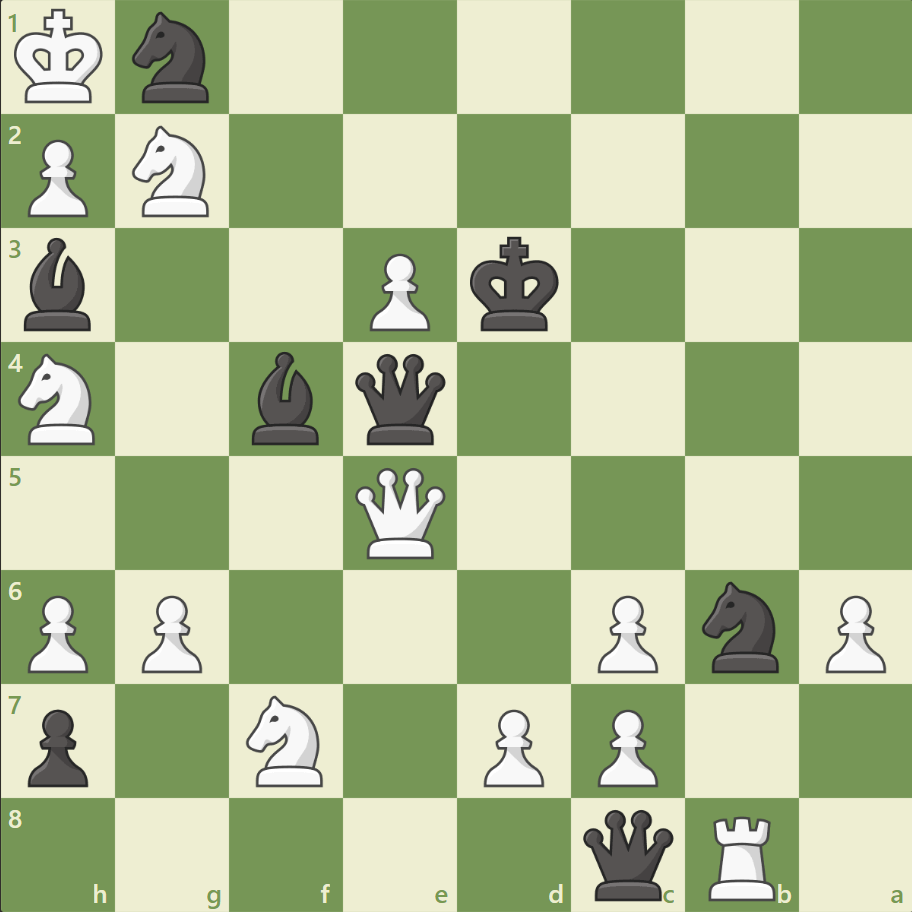K: (11, 4, 111, 112)
N: (124, 121, 222, 223), (238, 688, 335, 791), (11, 348, 108, 450)
P: (474, 700, 549, 791), (133, 586, 208, 677), (20, 586, 95, 677), (20, 132, 95, 223), (588, 700, 662, 791), (815, 586, 889, 677), (588, 586, 662, 677), (361, 246, 435, 337)
Q: (351, 463, 450, 562)
R: (700, 806, 783, 904)
b: (17, 233, 101, 336), (244, 347, 328, 449)
k: (465, 231, 565, 339)
n: (124, 7, 222, 110), (692, 575, 789, 677)
p: (20, 700, 95, 791)
q: (351, 349, 450, 449), (578, 804, 677, 903)
